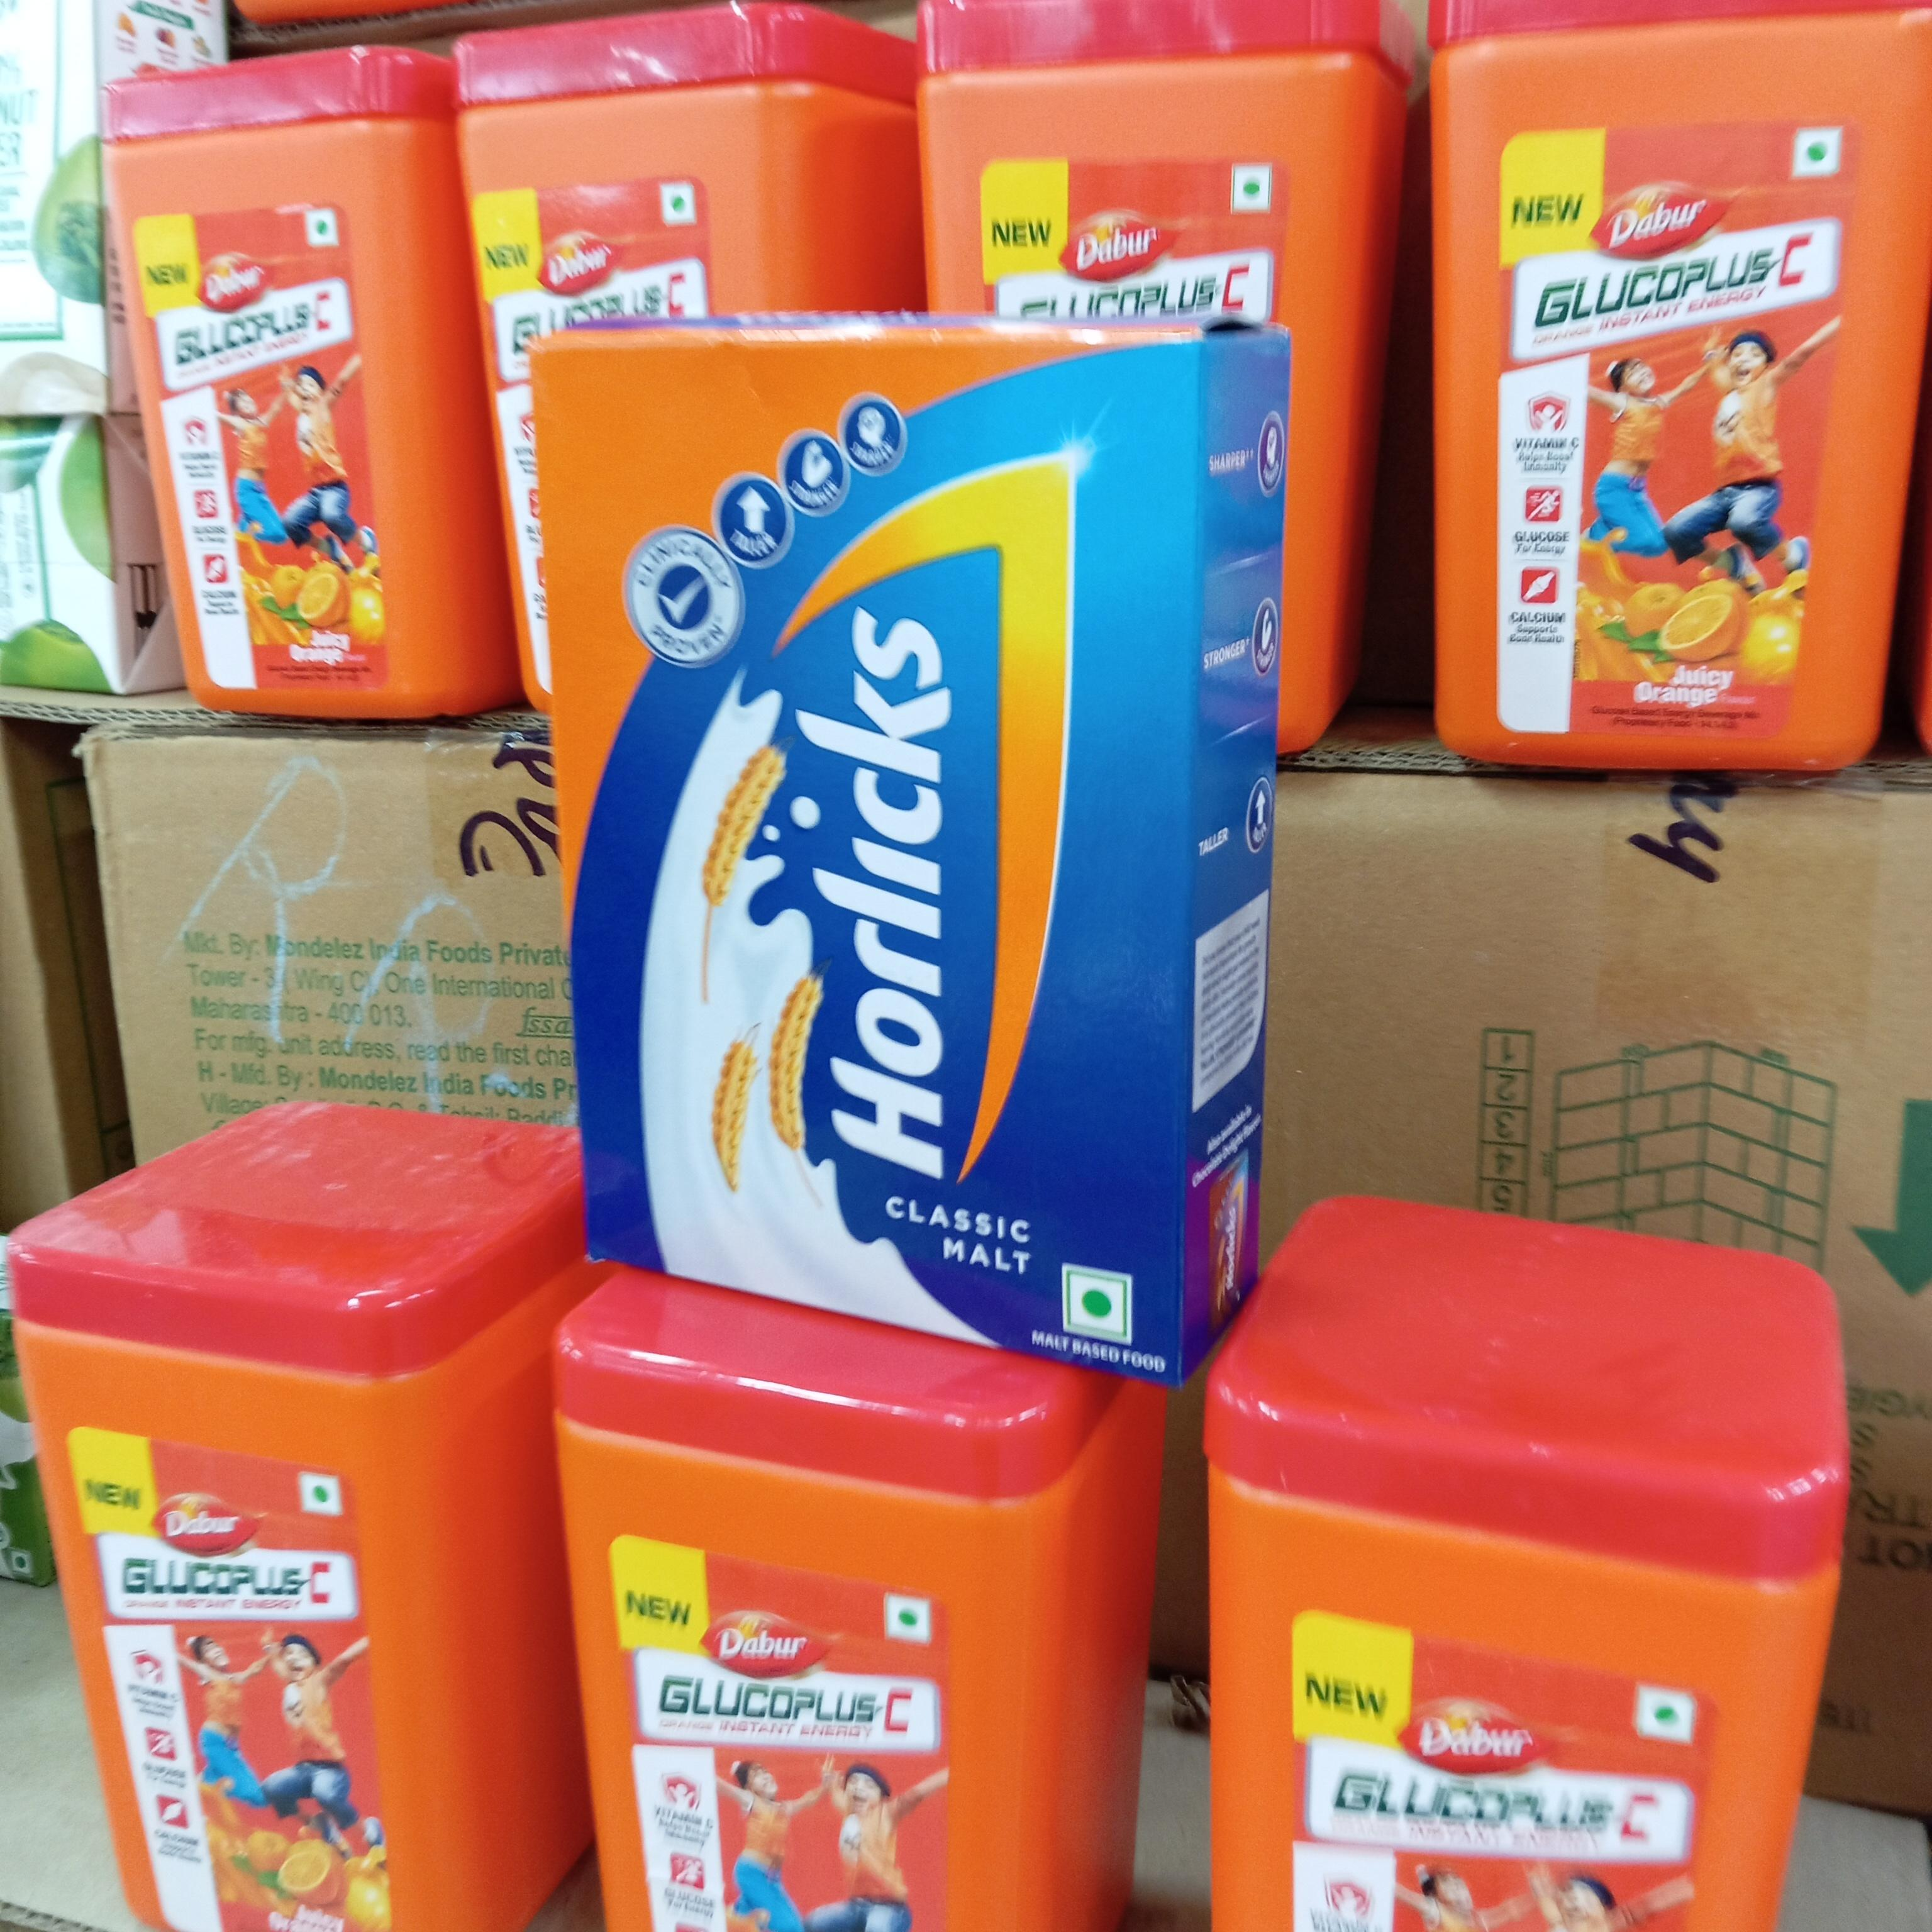HORLICK_CLASSIC_MALT_500_G_PACK: (540, 324, 1191, 1357)
